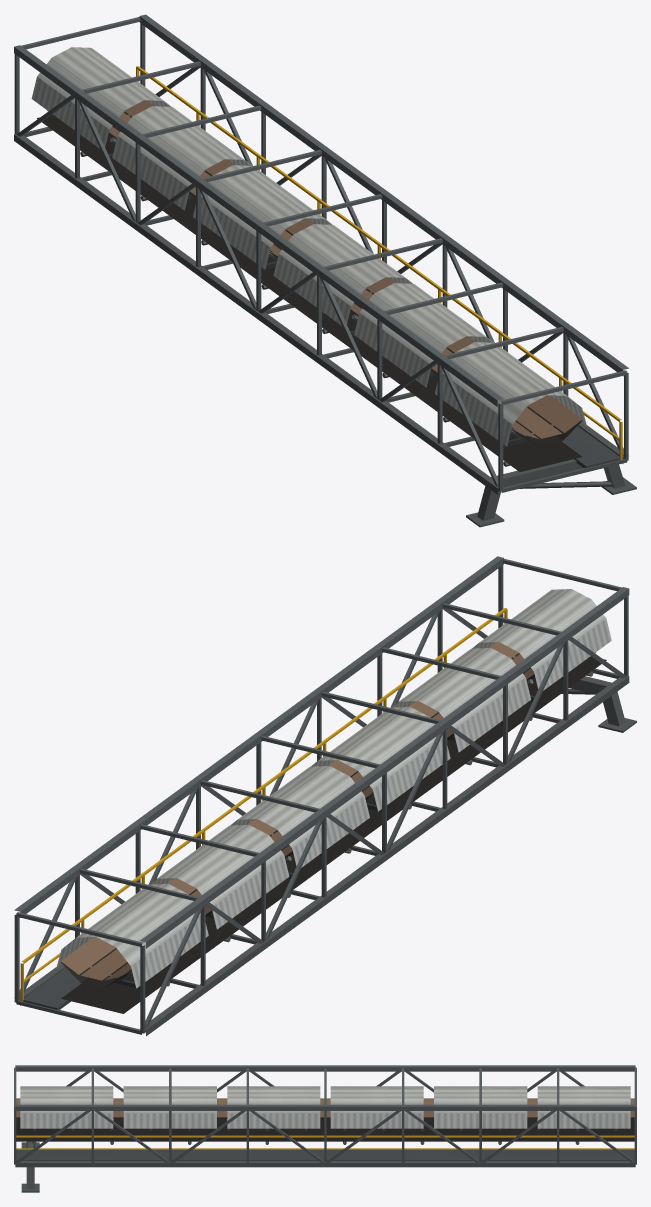
The model's file is conveyor_lod0.glb.
3 renders of one model, top to bottom at view 1: azimuth 30°, elevation 25°; view 2: azimuth 150°, elevation 25°; view 3: azimuth 270°, elevation 25°, orthographic. The views are drawn at different scales.
Visible parts, largest first — view 1: truss, ore, trestle; view 2: truss, ore, trestle; view 3: truss, ore, trestle.
Part boxes in pixels (x1=…): truss: x1=14, y1=14, x2=628, y2=494; ore: x1=109, y1=100, x2=582, y2=438; trestle: x1=466, y1=449, x2=636, y2=527; truss: x1=14, y1=556, x2=629, y2=1036; ore: x1=61, y1=642, x2=534, y2=980; trestle: x1=561, y1=676, x2=636, y2=732; truss: x1=14, y1=1065, x2=636, y2=1167; ore: x1=15, y1=1098, x2=635, y2=1117; trestle: x1=21, y1=1141, x2=39, y2=1192.
Size of the model in its own units: 4.5 by 3.53 by 24.09.
8 materials, 1 textured.
